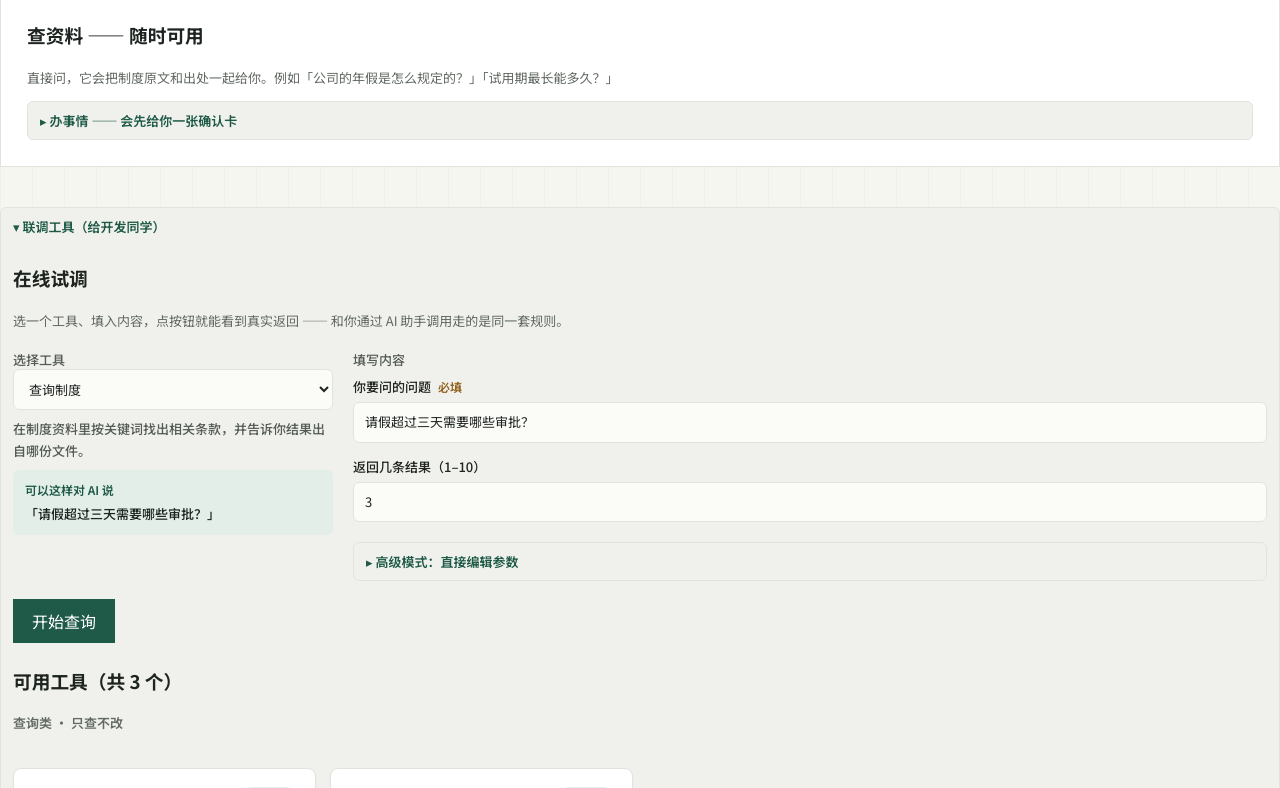
Test: switching to a write tool explains the approval step before submitting
(page scrolled)
Step 1. Select "新建 HR 案件" in the dropdown labelled "选择工具" → point(173, 389), box left=13, top=369, right=333, bottom=410
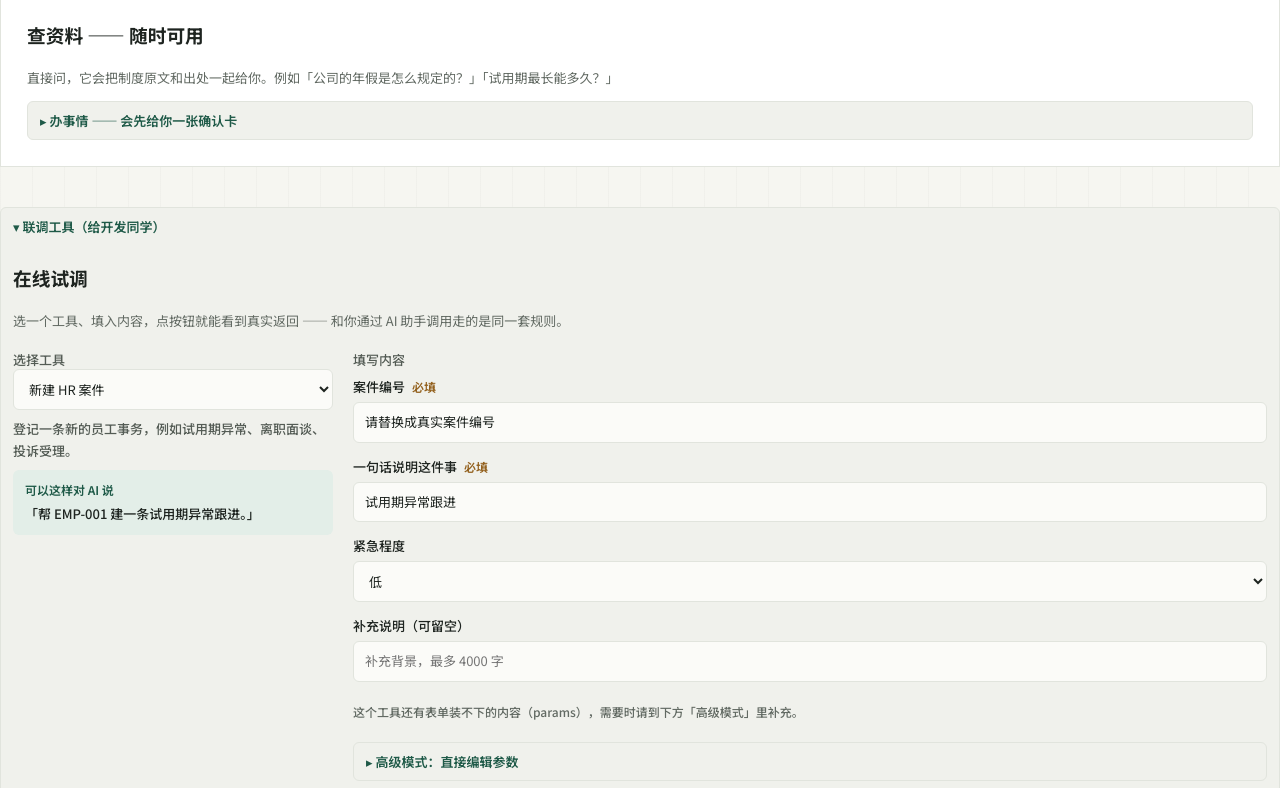
Result: the dropdown labelled "紧急程度" shows "低" at left=353, top=561, right=1267, bottom=602
Result: the text "这个工具还有表单装不下的内容（params），需要时请到下方「高级模式」里补充。" is shown at left=353, top=703, right=804, bottom=720
